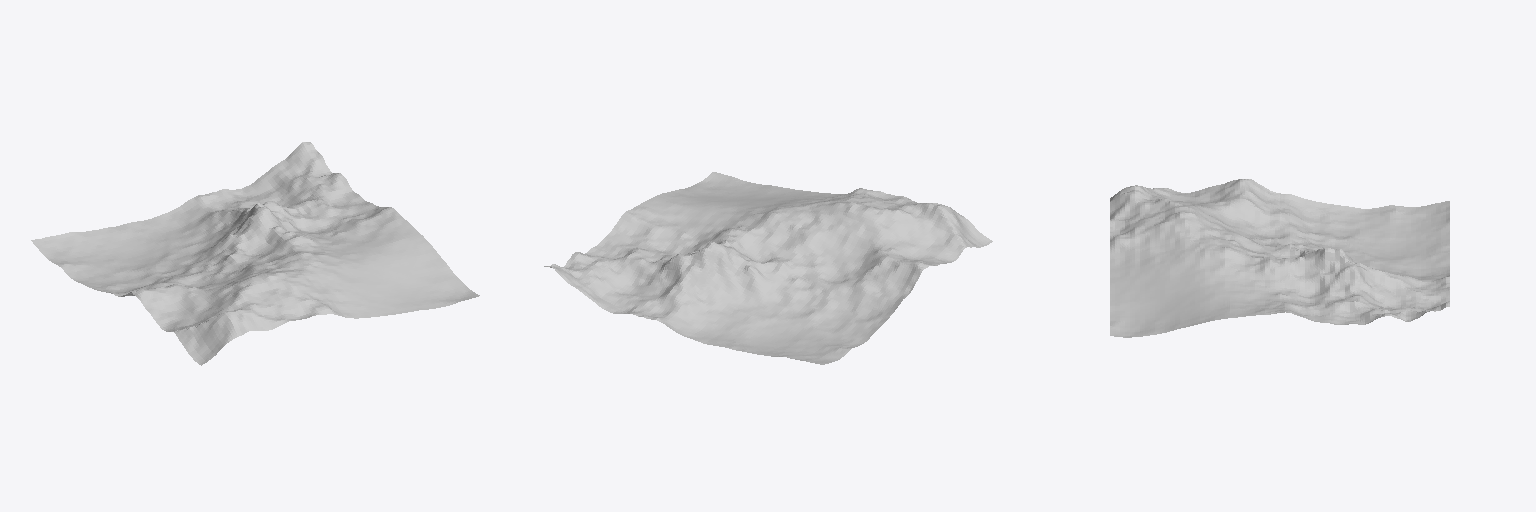
File: ground2.obj
3 renders of one model, left to right at view 1: azimuth 30°, elevation 25°; view 2: azimuth 150°, elevation 25°; view 3: azimuth 270°, elevation 25°, orthographic.
Visible parts, largest first — view 1: ground2; view 2: ground2; view 3: ground2.
Part boxes in pixels (left/top/right/bottom): ground2: left=31, top=142, right=479, bottom=365; ground2: left=544, top=172, right=992, bottom=364; ground2: left=1110, top=179, right=1449, bottom=337.
Size of the model in its own units: 85.23 by 14.72 by 89.74.